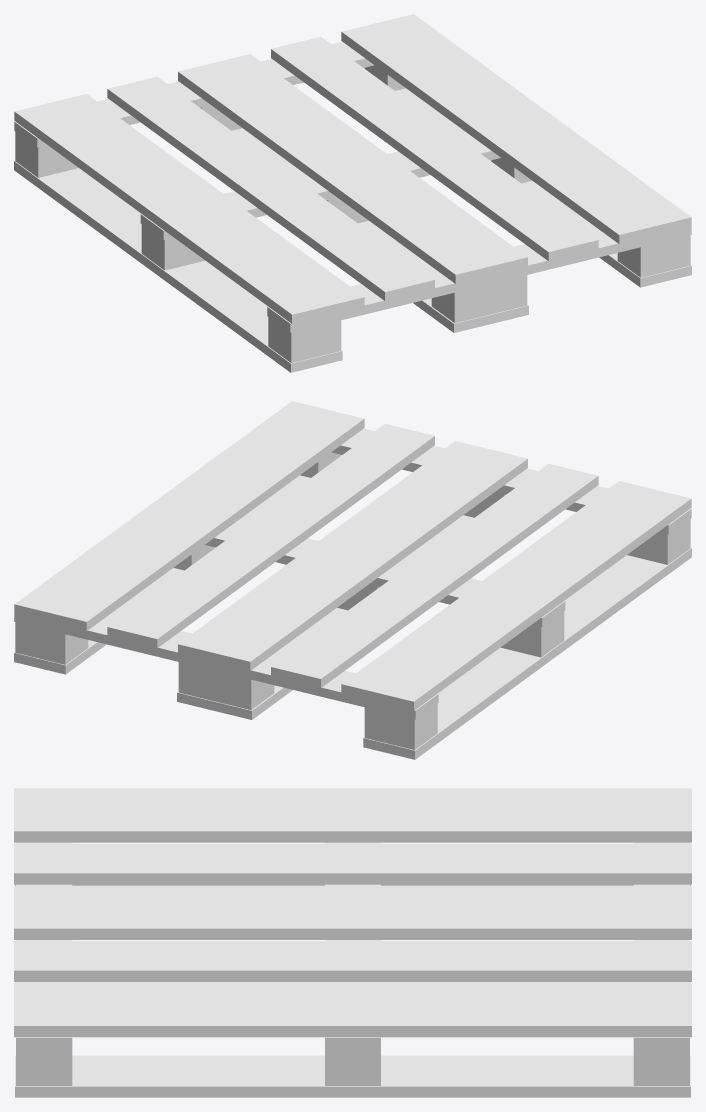
The model's file is Prop_Wooden_Pallet_02.glb.
3 views of the same model, one above another, from view 1: azimuth 30°, elevation 25°; view 2: azimuth 150°, elevation 25°; view 3: azimuth 270°, elevation 25° (orthographic). The views are drawn at different scales.
Parts seen in each view (by area): view 1: Prop_Wooden_Pallet_02; view 2: Prop_Wooden_Pallet_02; view 3: Prop_Wooden_Pallet_02.
Part boxes in pixels (bbox=[...]): Prop_Wooden_Pallet_02: bbox=[14, 14, 691, 372]; Prop_Wooden_Pallet_02: bbox=[14, 401, 691, 759]; Prop_Wooden_Pallet_02: bbox=[14, 788, 691, 1097].
Bounding box in the file's own units: 1.22 × 0.1689 × 1.46.
Materials: 1 (1 with a texture image).
